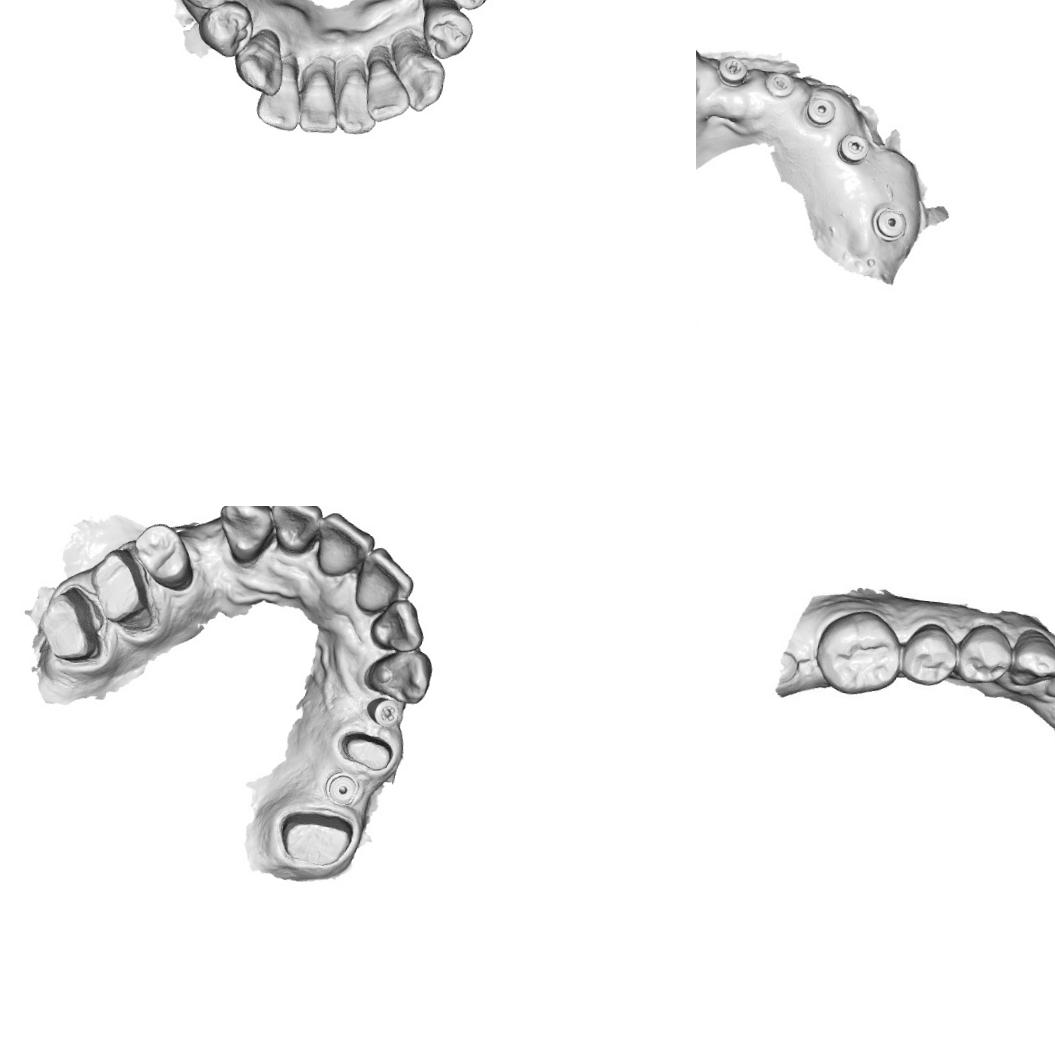canine: (387, 39, 452, 115), (362, 643, 435, 706), (230, 25, 290, 97), (213, 506, 277, 568), (1009, 624, 1055, 701)
crown: (83, 543, 162, 635), (34, 579, 108, 666), (274, 807, 356, 870), (334, 728, 395, 773)
implant: (322, 768, 362, 809), (870, 205, 908, 244), (803, 94, 839, 128)
implant_minus: (834, 130, 875, 170), (762, 69, 797, 100)
implant_plus: (363, 694, 401, 730), (714, 52, 750, 89)
incisor: (352, 545, 418, 618), (313, 510, 378, 580), (330, 60, 384, 139), (252, 61, 307, 135), (362, 51, 414, 126), (294, 65, 346, 139), (368, 596, 427, 654), (265, 506, 325, 559)
molar: (816, 609, 907, 701)
premolar: (128, 520, 200, 593), (895, 617, 961, 690), (191, 0, 259, 65), (414, 0, 478, 64), (957, 624, 1016, 688), (168, 0, 239, 18), (437, 0, 500, 14)
